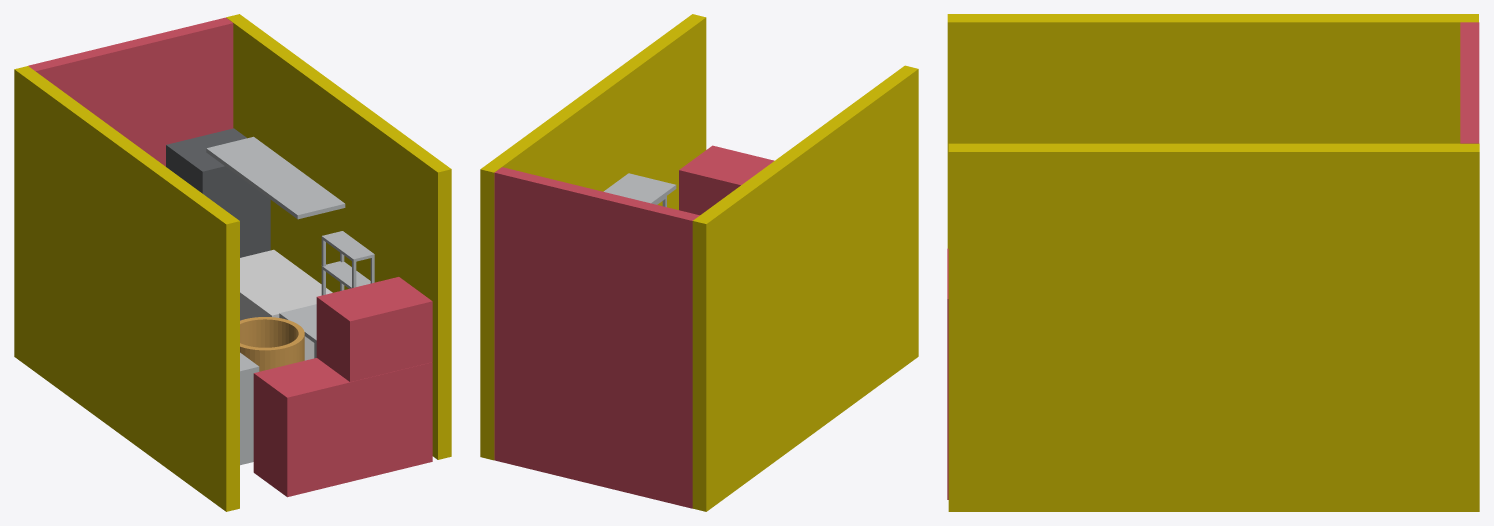
File: Funky Wluff-Juttuli.glb
3 renders of one model, left to right at view 1: azimuth 30°, elevation 25°; view 2: azimuth 150°, elevation 25°; view 3: azimuth 270°, elevation 25°, orthographic. The views are drawn at different scales.
Visible parts, largest first — view 1: Mesh_Mesh_head_geo.001_lambert2SG.001; view 2: Mesh_Mesh_head_geo.001_lambert2SG.001; view 3: Mesh_Mesh_head_geo.001_lambert2SG.001.
Part boxes in pixels (<box>): Mesh_Mesh_head_geo.001_lambert2SG.001: <box>14,14,451,511</box>; Mesh_Mesh_head_geo.001_lambert2SG.001: <box>480,14,918,511</box>; Mesh_Mesh_head_geo.001_lambert2SG.001: <box>947,14,1479,511</box>.
Bounding box in the file's own units: 0.0217 × 0.0267 × 0.0354.
